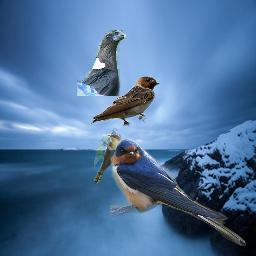Crow: (77, 30, 126, 96)
Cuckoo: (94, 134, 121, 184)
Swallow: (110, 138, 246, 246), (89, 75, 160, 127)
